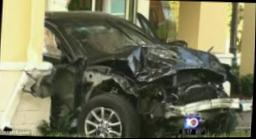Bonnet: (86, 42, 227, 89)
Bumper: (139, 86, 241, 136)
Fender: (74, 69, 111, 105)
Light: (119, 73, 166, 96)
